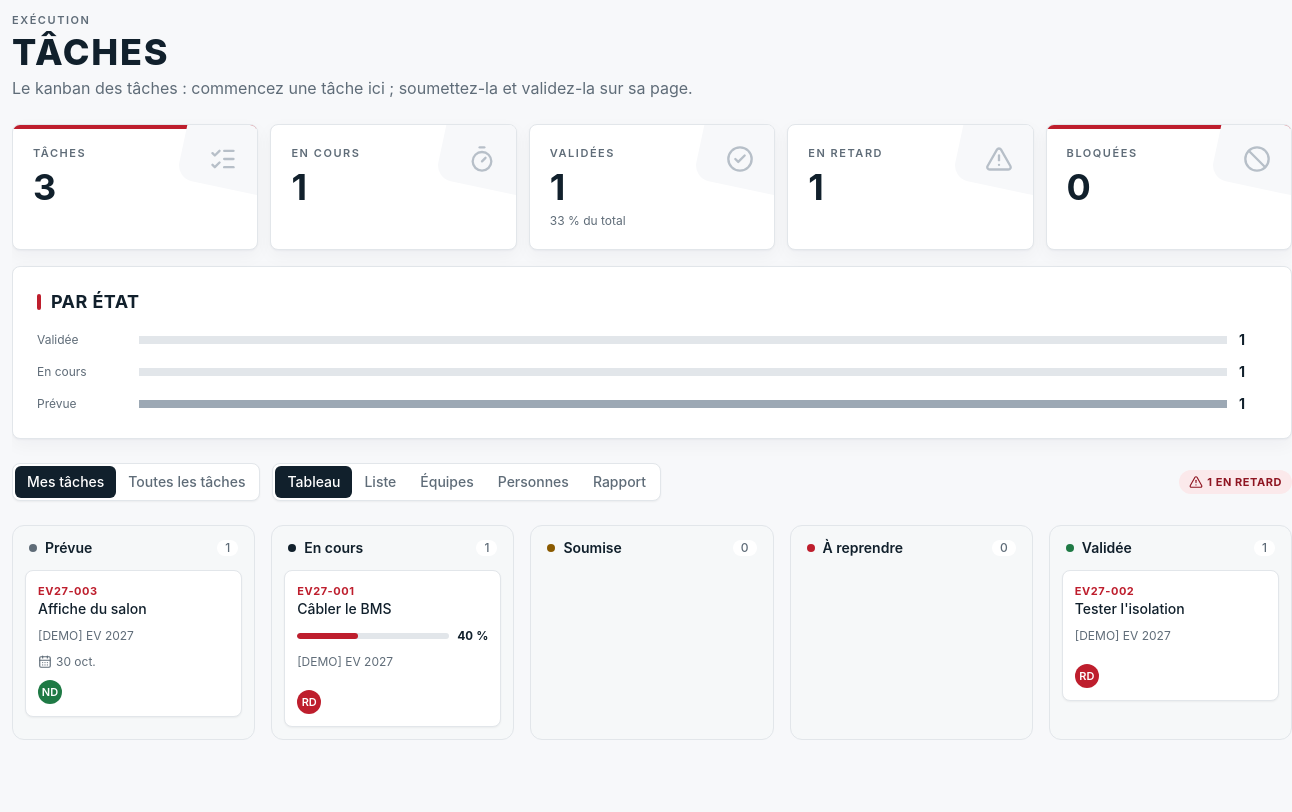
Scenario: MyTasks › shows the work orders by team, then a team's tasks in the list
Check: the link "Câbler le BMS" is shown, box [297,600,392,616]
Click the button "Équipes".
click(447, 482)  # box [408,466,486,498]
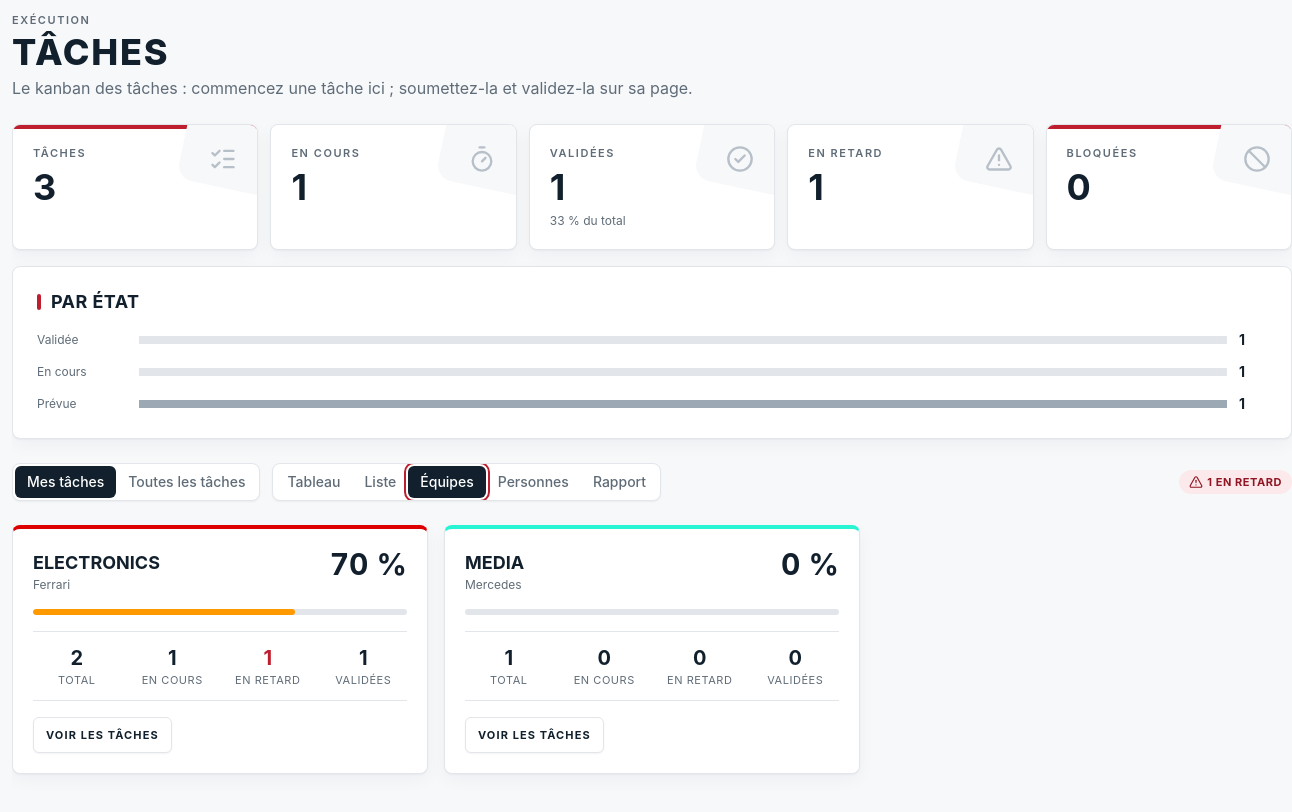
Check: the text "Ferrari" is shown, box [33,576,70,592]
Click the button with aria-label "Voir les tâches de l'équipe Electronics".
click(102, 734)  # box [33,716,172,752]
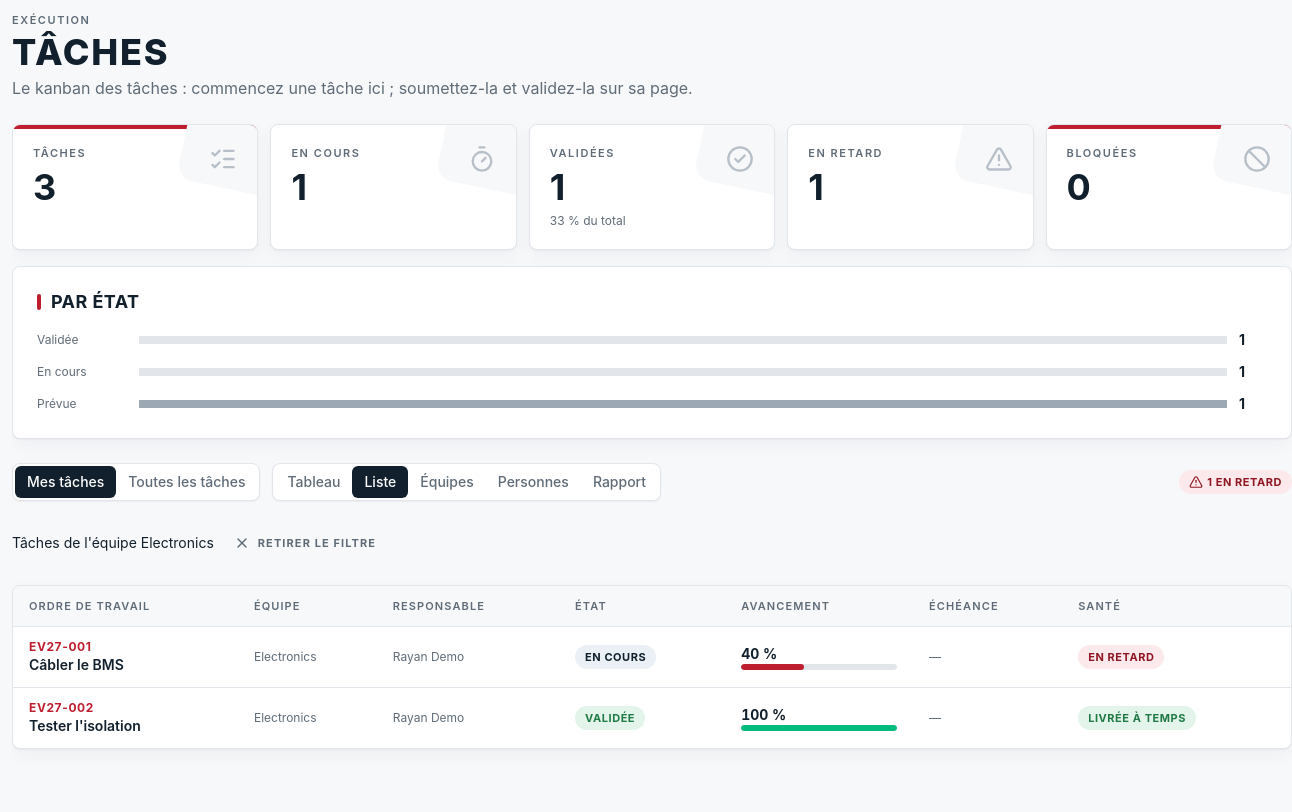
Check: the link "Affiche du salon" is not shown
Check: the text "Tâches de l'équipe Electronics" is shown, box [12,534,214,550]
Check: the link "Câbler le BMS" is shown, box [29,656,124,672]
Click the button "Retirer le filtre".
click(305, 542)  # box [222,524,388,560]
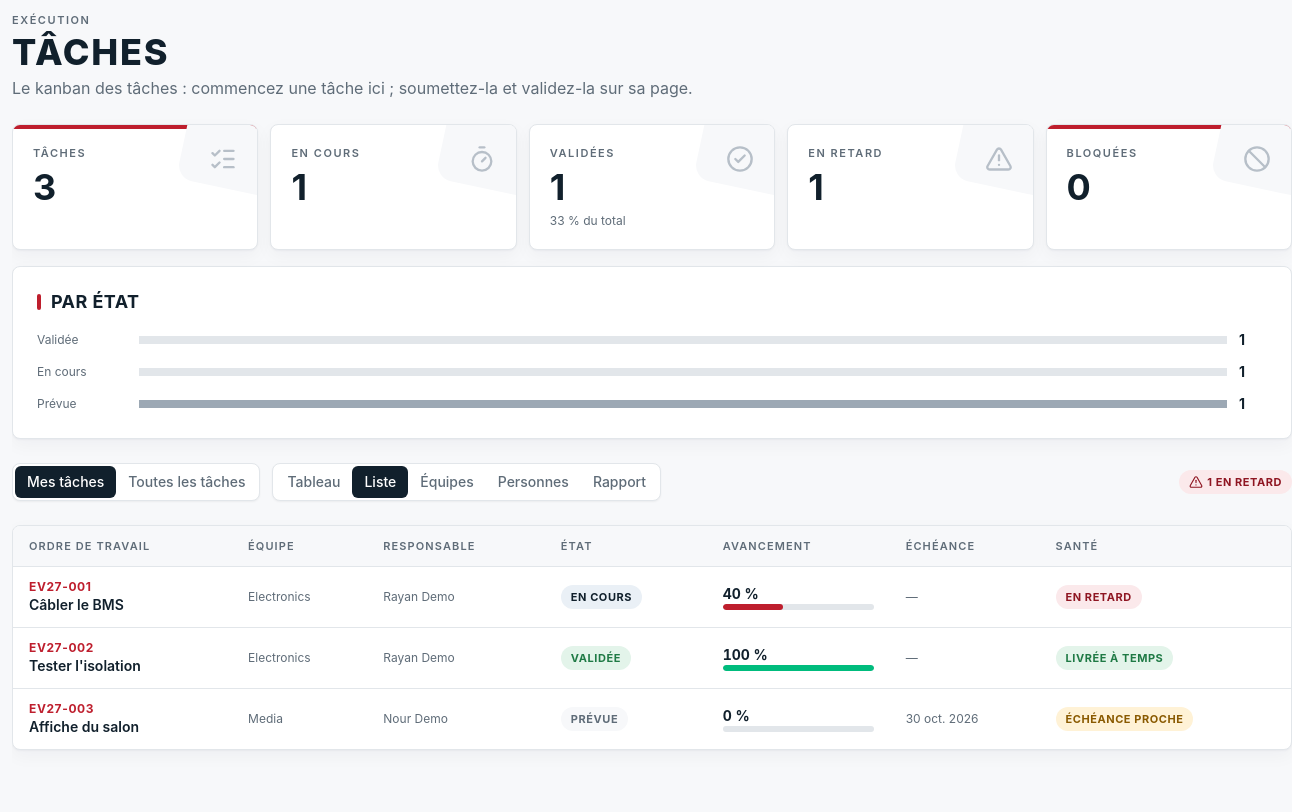
Check: the link "Affiche du salon" is shown, box [29,718,139,734]
